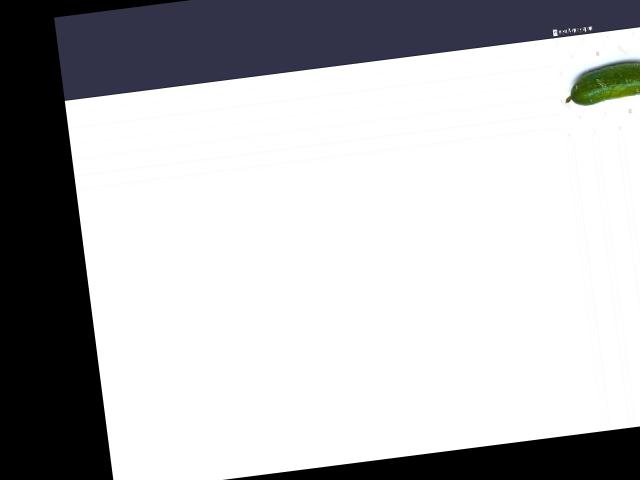cucumber: (561, 58, 640, 108)
